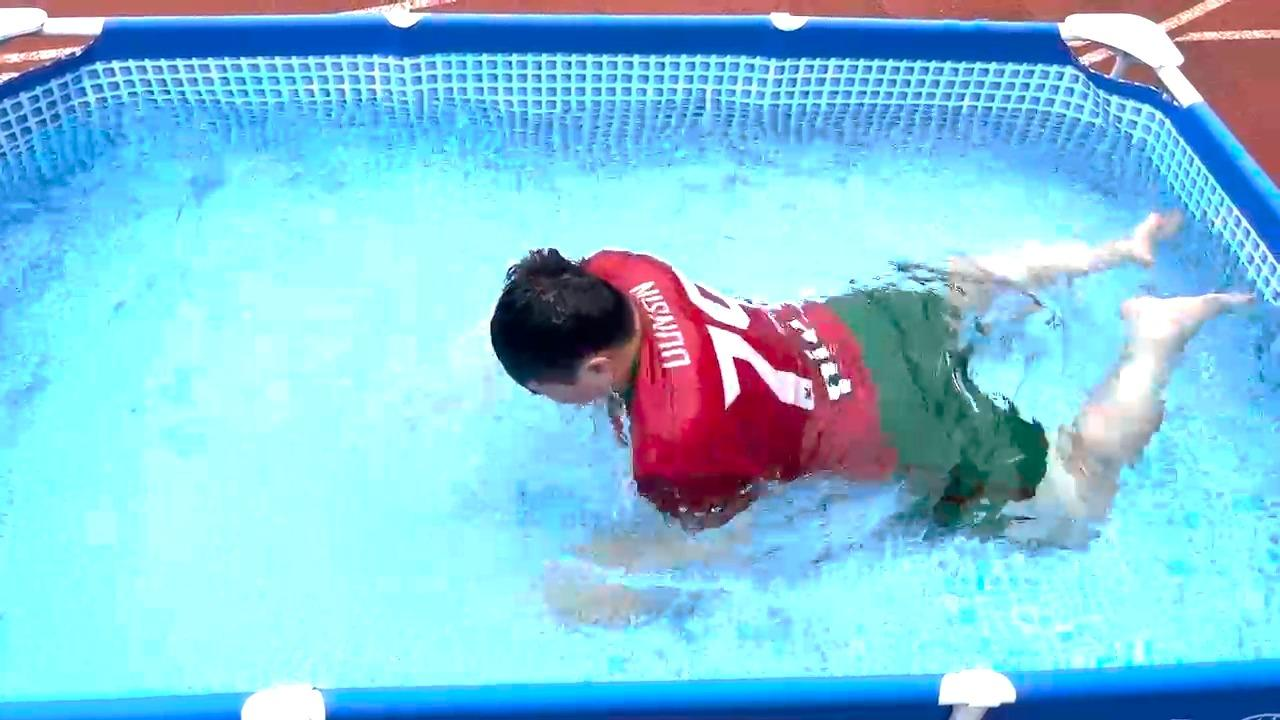Drowning: (372, 176, 1280, 630)
